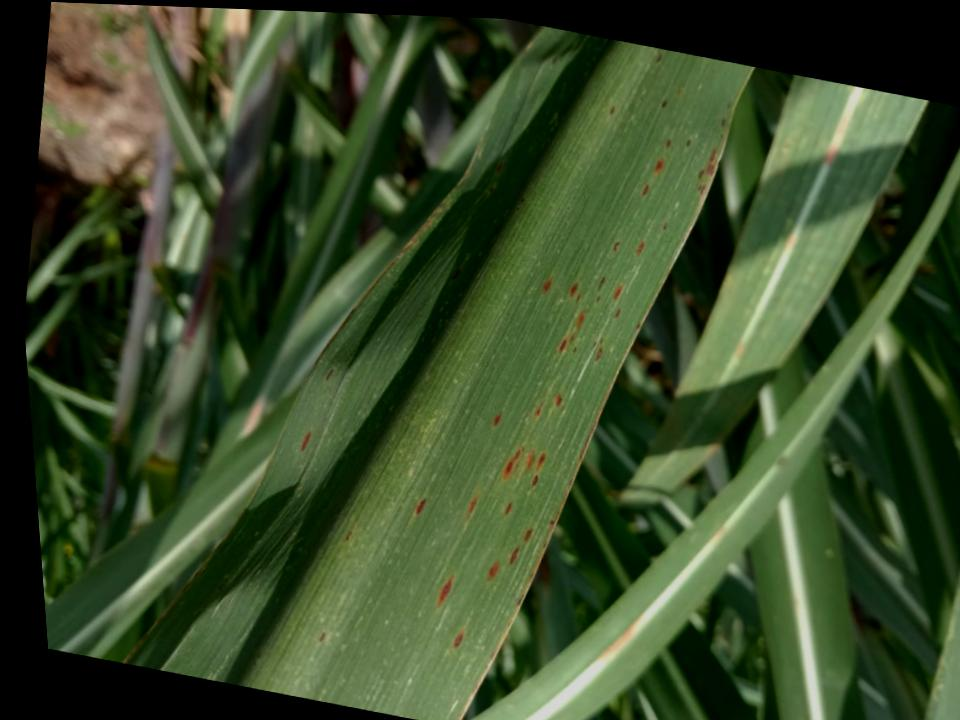RedRot: (820, 139, 841, 166)
Rust: (500, 439, 550, 493), (578, 417, 599, 463), (695, 145, 718, 183), (436, 573, 455, 613), (465, 489, 485, 527), (565, 275, 585, 307), (590, 333, 608, 363), (412, 494, 430, 520), (493, 153, 507, 181), (485, 558, 500, 584), (540, 273, 555, 297), (300, 426, 313, 453), (574, 306, 587, 332), (652, 153, 668, 174), (322, 364, 337, 386), (523, 521, 536, 544), (613, 280, 626, 302), (452, 627, 466, 647), (532, 399, 545, 420), (509, 545, 521, 567), (610, 305, 626, 321), (491, 408, 503, 429), (316, 628, 329, 646), (662, 135, 675, 152), (552, 392, 564, 410), (635, 240, 647, 258), (547, 514, 559, 532), (695, 182, 709, 197), (658, 96, 673, 110), (596, 273, 607, 292), (716, 113, 729, 129), (449, 265, 462, 281), (640, 182, 651, 199), (605, 102, 616, 119), (653, 51, 665, 66), (503, 502, 514, 518), (558, 335, 567, 354), (684, 136, 695, 149), (634, 322, 644, 335), (660, 219, 670, 232), (611, 239, 620, 253), (594, 293, 603, 303), (726, 98, 733, 110), (569, 335, 576, 344), (572, 345, 578, 353)
